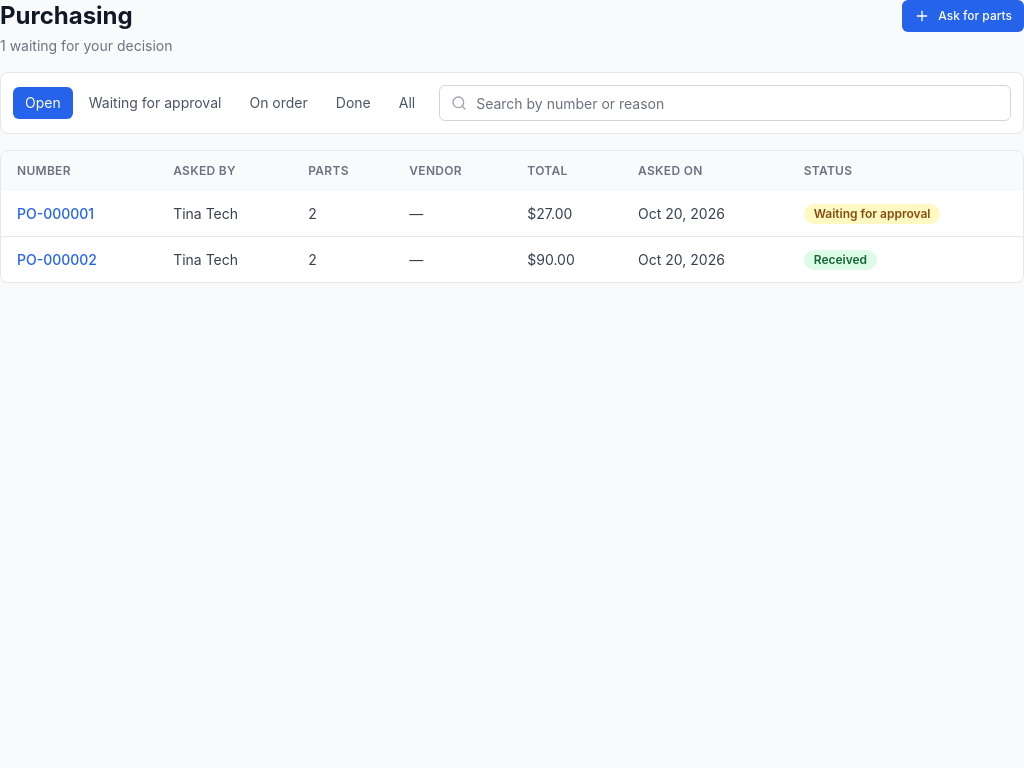
PurchasingPage › offers a technician only to change or cancel their own waiting request
Click the button "PO-000001" at (56, 214), box [17, 204, 94, 224]
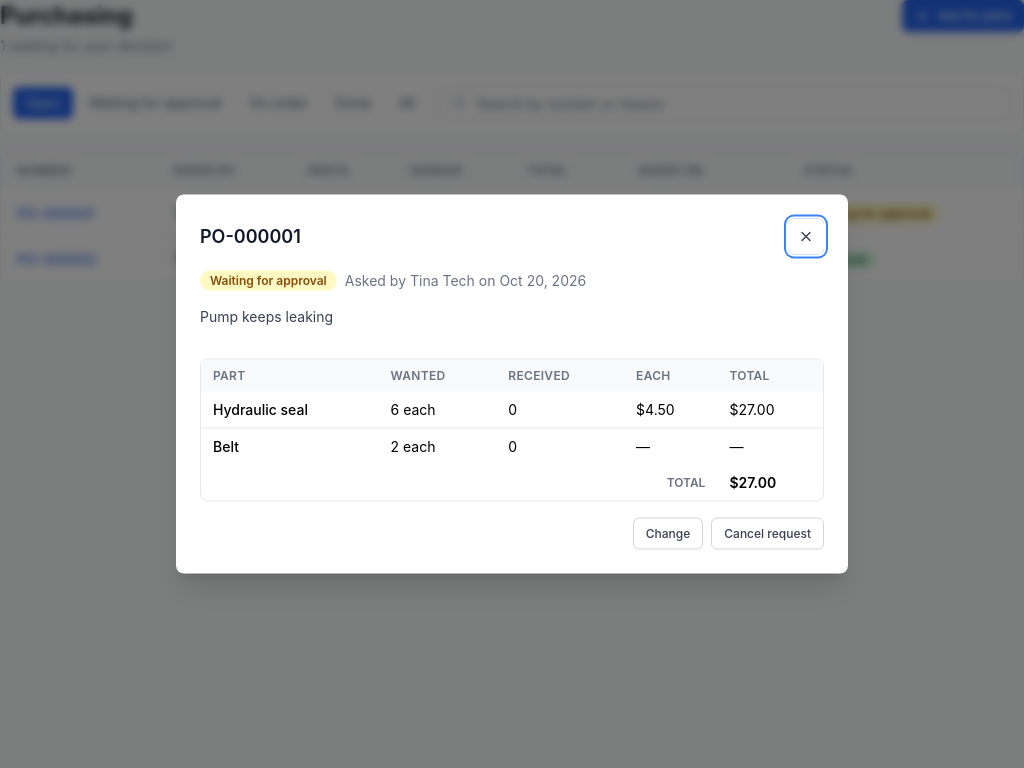
Expected: the text "Hydraulic seal" is shown, [201, 392, 378, 428]
Expected: the button "Change" is shown, [633, 518, 703, 550]
Expected: the button "Cancel request" is shown, [711, 518, 824, 550]
